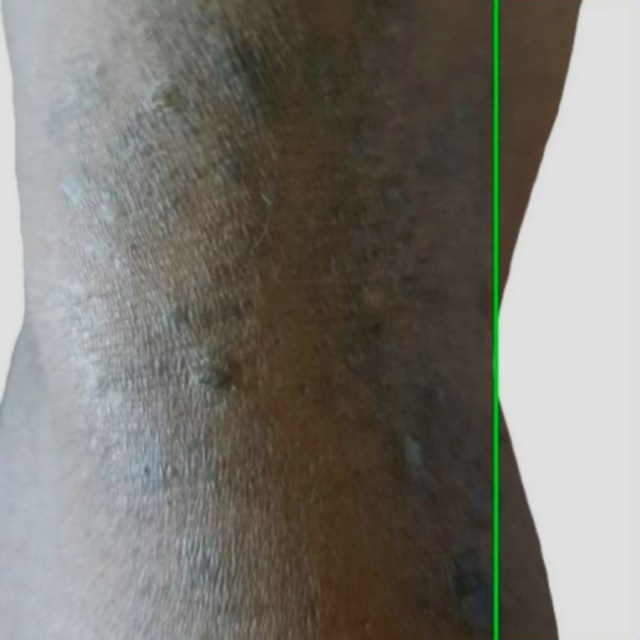Contact Dermatitis: (496, 0, 639, 639)
